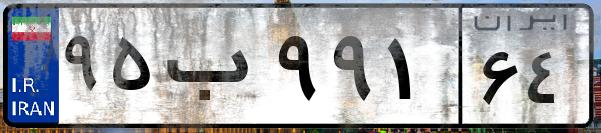1: (385, 28, 445, 110)
4: (525, 38, 570, 115)
5: (110, 28, 158, 98)
6: (475, 38, 525, 113)
9: (270, 28, 330, 110), (330, 28, 385, 110), (57, 26, 110, 100)
ب: (158, 20, 270, 120)
